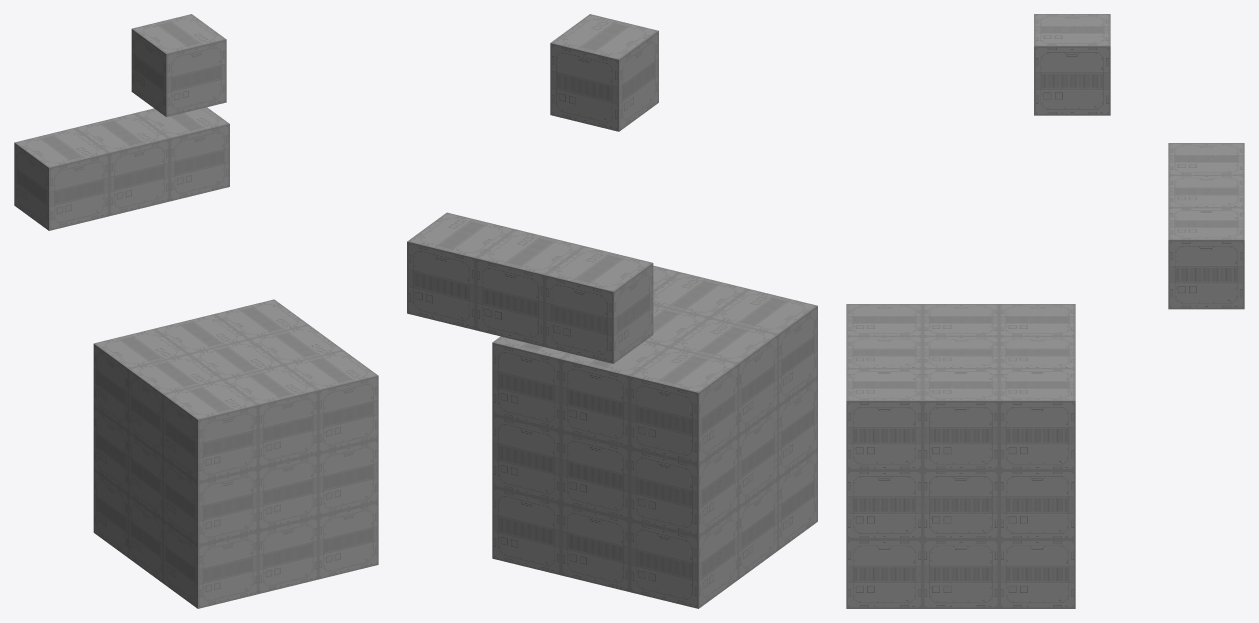
The model's file is yaron01_pbr_material.glb.
The picture shows the model from 3 angles, left to right: view 1: azimuth 30°, elevation 25°; view 2: azimuth 150°, elevation 25°; view 3: azimuth 270°, elevation 25°; orthographic projection. The views are drawn at different scales.
Visible parts, largest first — view 1: Object_2; view 2: Object_2; view 3: Object_2.
Part boxes in pixels (x1,y1,x2,y2): Object_2: (14,14,378,608); Object_2: (407,14,817,608); Object_2: (846,14,1244,608).
Size of the model in its own units: 0.7999 by 2 by 1.37.
Materials: 1 (1 with a texture image).
